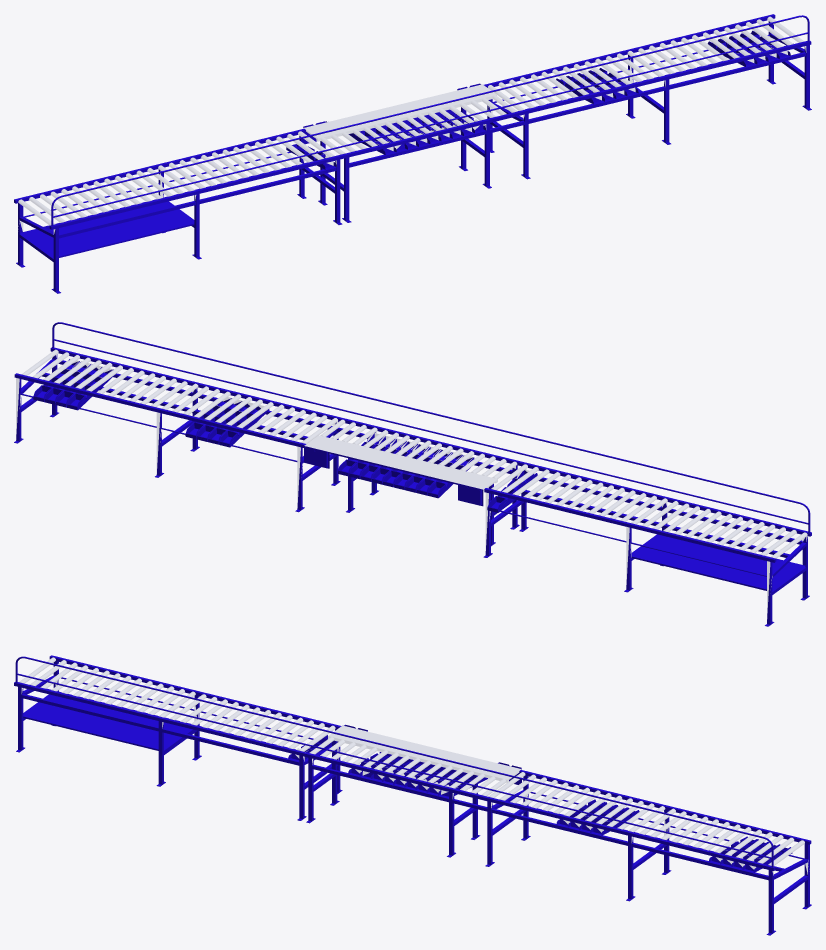
Rendered from production_line.dae.
The picture shows the model from 3 angles, top to bottom: view 1: azimuth 30°, elevation 25°; view 2: azimuth 150°, elevation 25°; view 3: azimuth 330°, elevation 25°; orthographic projection.
Parts seen in each view (by area): view 1: main_line; view 2: main_line; view 3: main_line.
Boxes of the visible parts, x1,y1,x2,y2 form: main_line: (14,14,811,293); main_line: (14,322,811,626); main_line: (14,655,811,935).
Size of the model in its own units: 8.83 by 0.8442 by 1.05.
